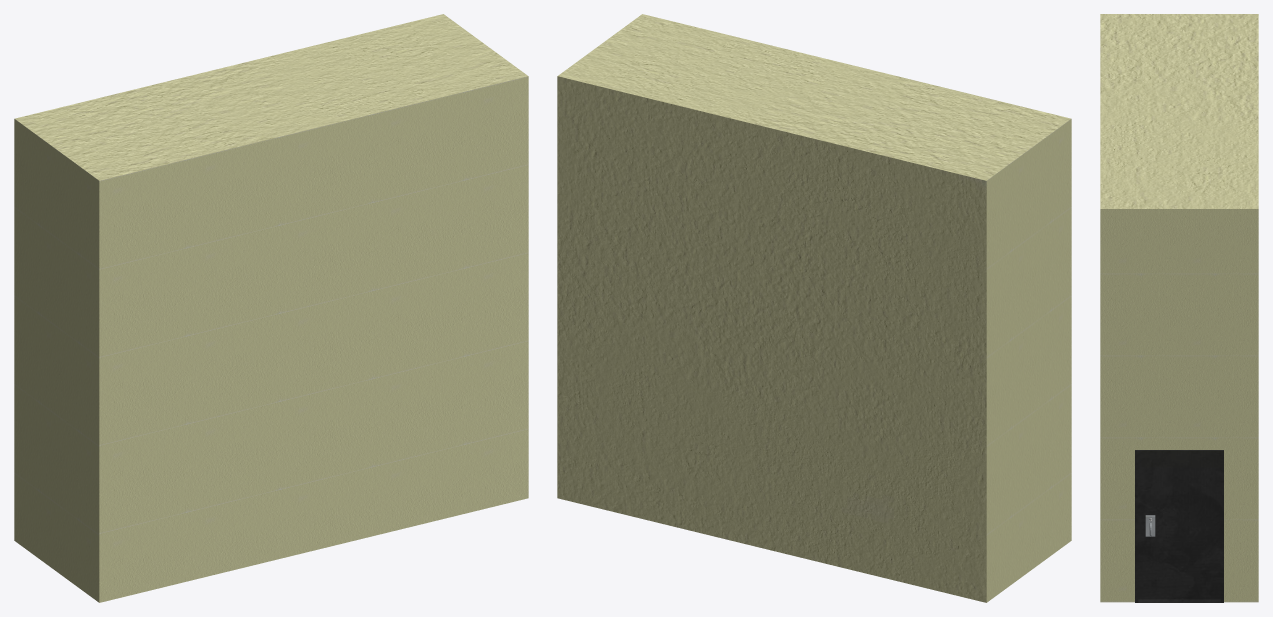
Rendered from graffiti_block.fbx.
3 views of the same model, side by side, from view 1: azimuth 30°, elevation 25°; view 2: azimuth 150°, elevation 25°; view 3: azimuth 270°, elevation 25° (orthographic). The views are drawn at different scales.
Visible parts, largest first — view 1: graffiti_block; view 2: graffiti_block; view 3: graffiti_block.
Part boxes in pixels (x1,y1,x2,y2): graffiti_block: (14, 14, 528, 602); graffiti_block: (557, 14, 1071, 602); graffiti_block: (1100, 14, 1258, 602).
Bounding box in the file's own units: 5.84 × 5.37 × 1.96.
2 materials, 2 textured.
